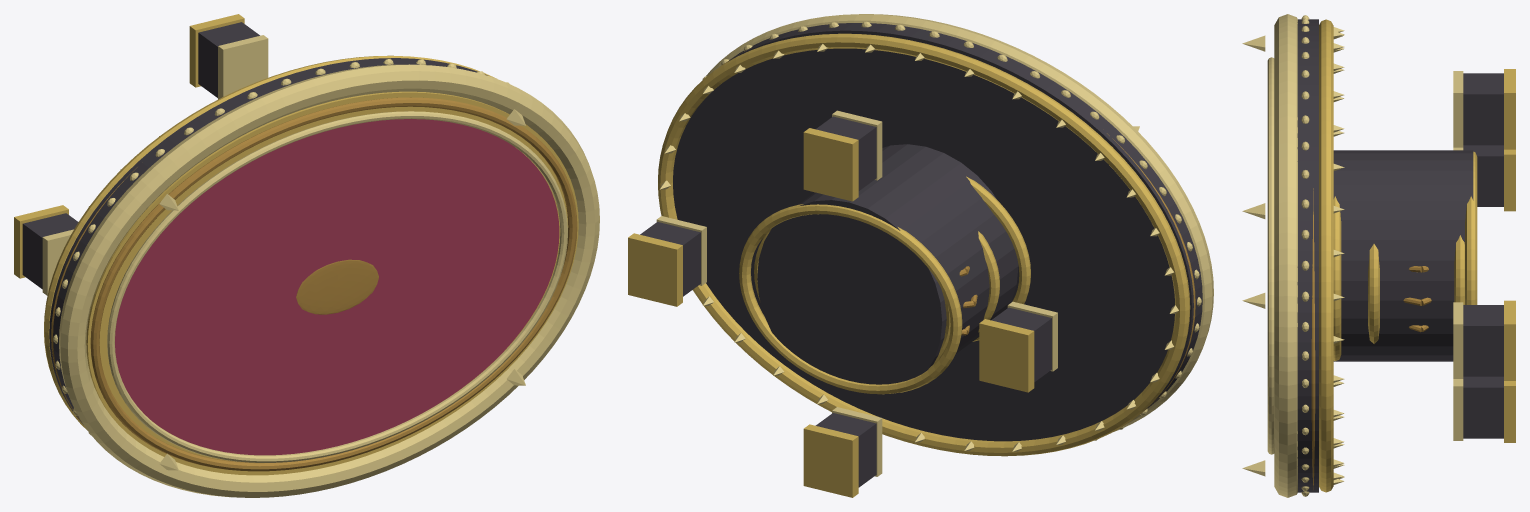
The model's file is table_royal_ruby.glb.
3 views of the same model, side by side, from view 1: azimuth 30°, elevation 25°; view 2: azimuth 150°, elevation 25°; view 3: azimuth 270°, elevation 25° (orthographic).
Parts seen in each view (by area): view 1: world; view 2: world; view 3: world.
Boxes of the visible parts, x1,y1,x2,y2 form: world: (14, 14, 599, 497); world: (628, 14, 1213, 497); world: (1242, 14, 1515, 497).
Bounding box in the file's own units: 2.85 × 2.09 × 1.27.
